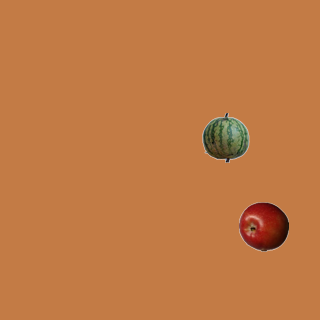Apple Braeburn: (238, 201, 288, 251)
Watermelon: (200, 112, 250, 162)
